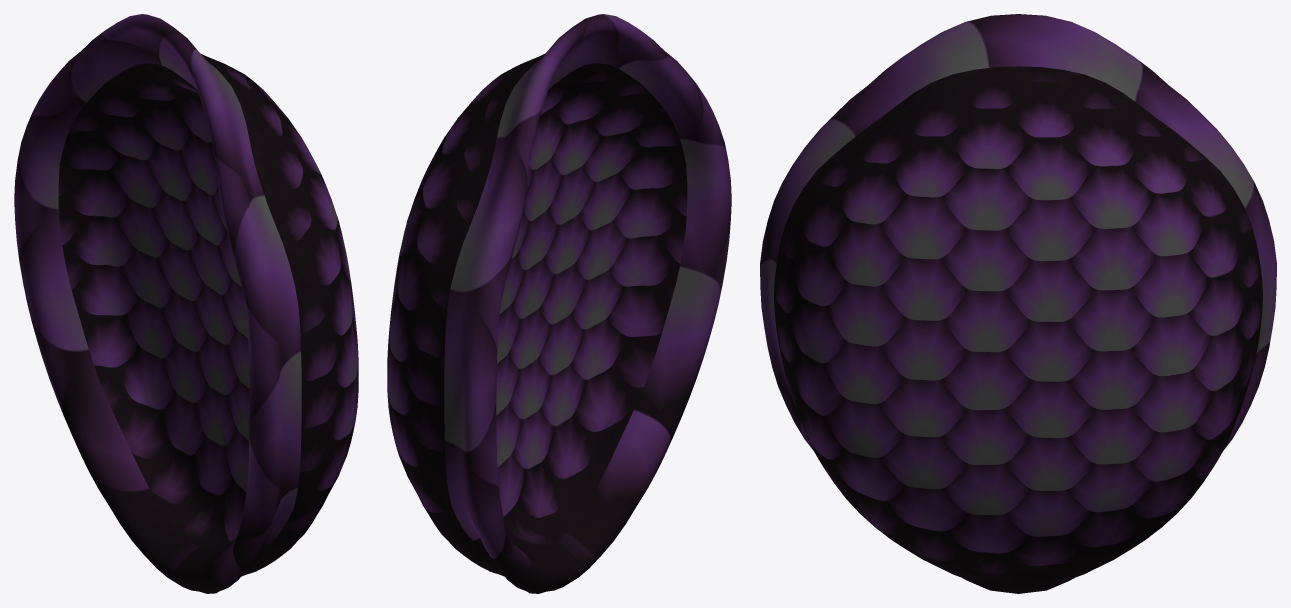
File: shell__pbr_turtle_shell.glb
3 renders of one model, left to right at view 1: azimuth 30°, elevation 25°; view 2: azimuth 150°, elevation 25°; view 3: azimuth 270°, elevation 25°, orthographic.
Parts seen in each view (by area): view 1: Object_2; view 2: Object_2; view 3: Object_2.
Part boxes in pixels (left/top/right/bottom): Object_2: left=14, top=14, right=358, bottom=593; Object_2: left=387, top=14, right=731, bottom=593; Object_2: left=760, top=14, right=1276, bottom=593.
Size of the model in its own units: 0.6366 by 2.09 by 1.73.
1 material, 1 textured.
